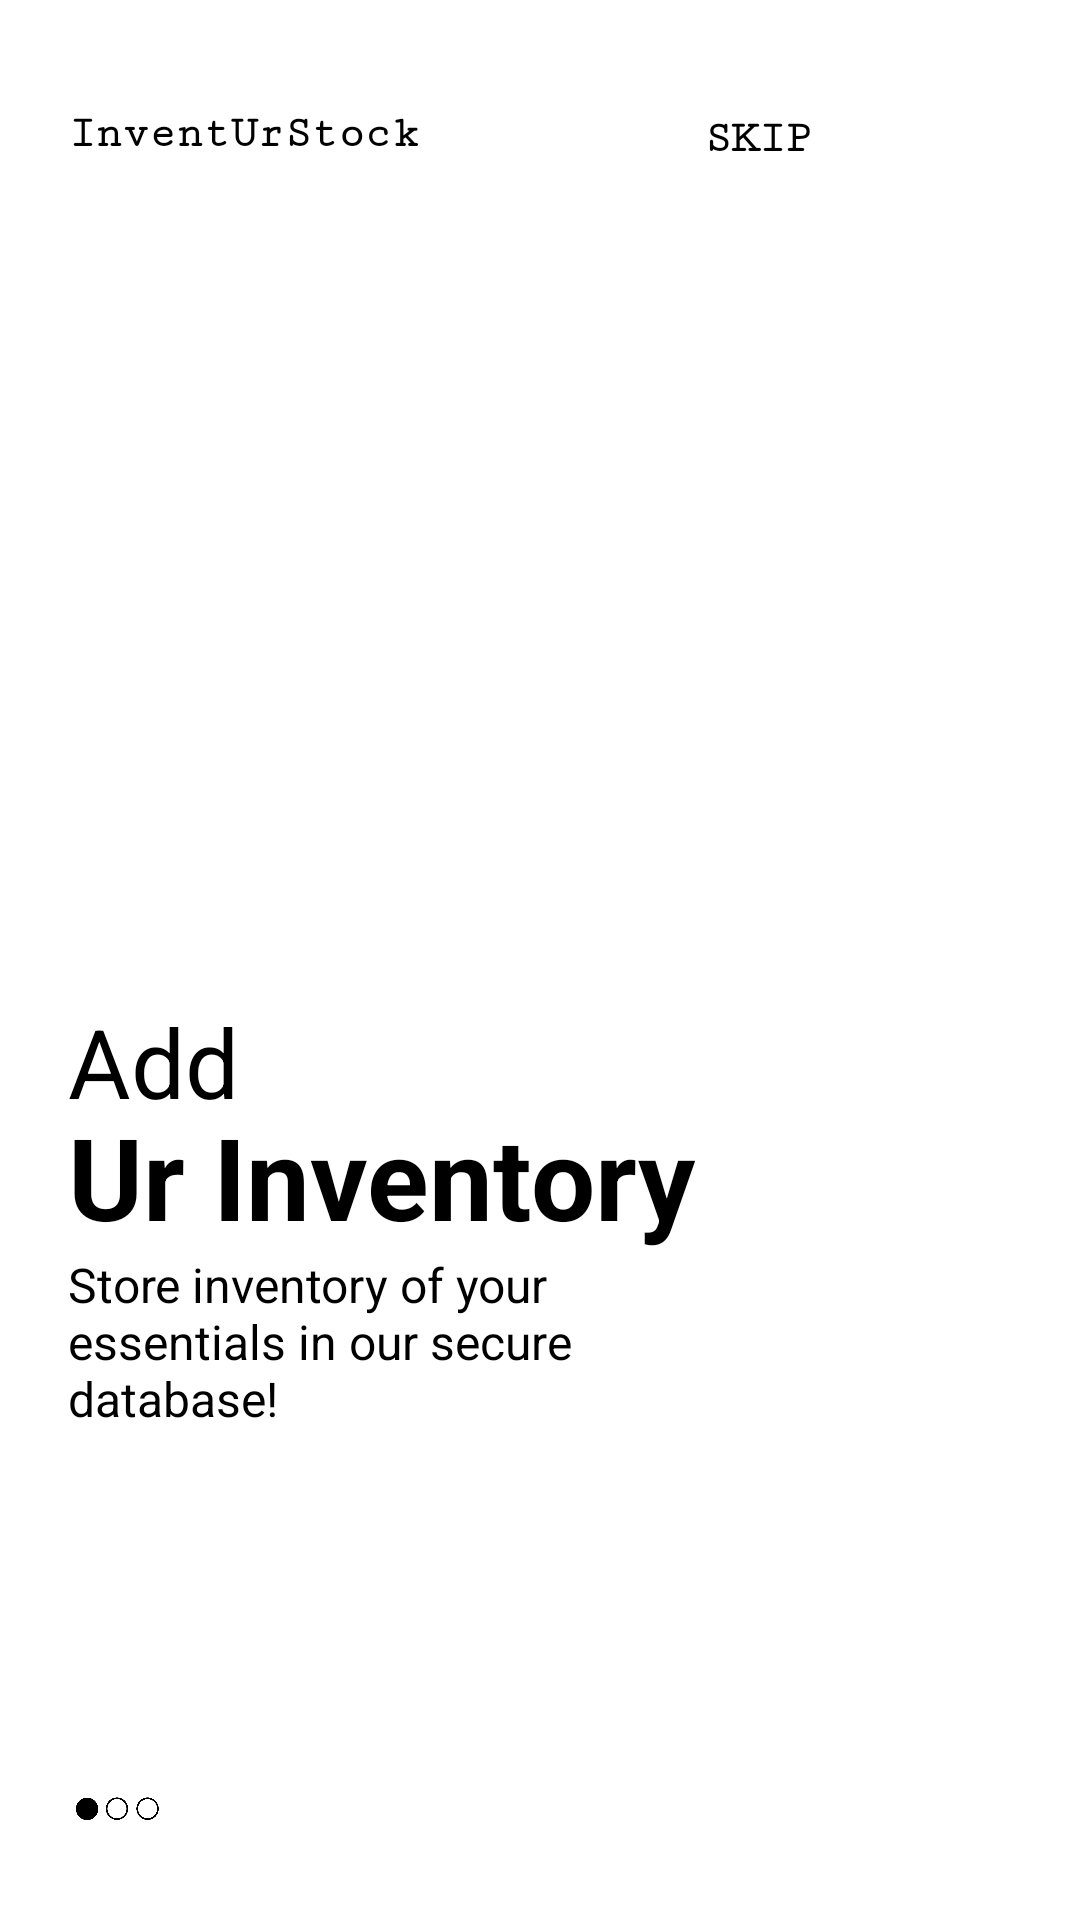

Icon click points for this 1080px×1920px phone screenshot, format (x,y):
tab1: (117,1808)
